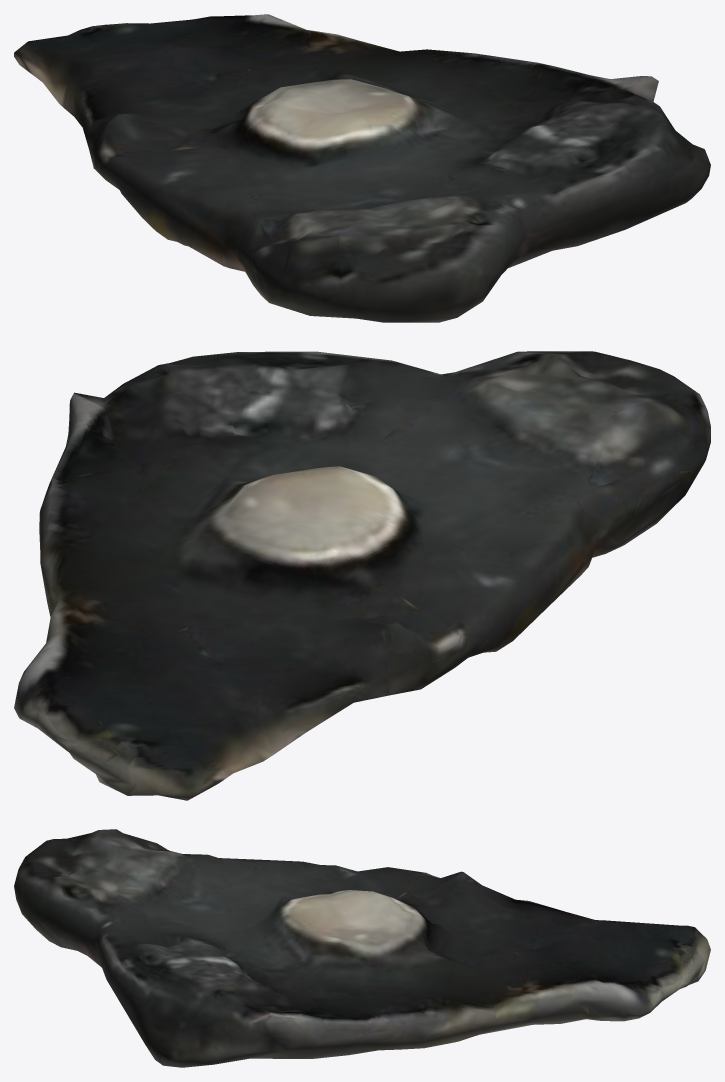
Rendered from hall.glb.
3 views of the same model, one above another, from view 1: azimuth 30°, elevation 25°; view 2: azimuth 150°, elevation 25°; view 3: azimuth 270°, elevation 25° (orthographic). The views are drawn at different scales.
Bounding box in the file's own units: 0.3718 × 0.0942 × 0.5724.
Materials: 1 (1 with a texture image).
